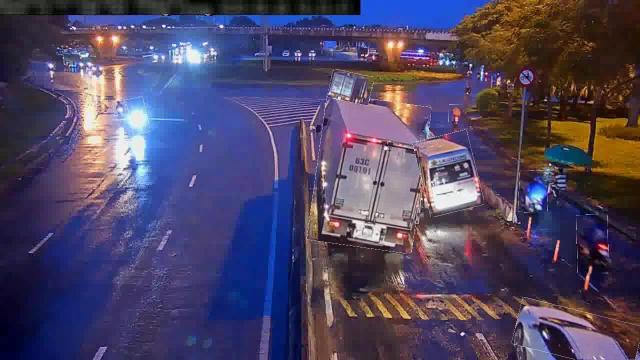Bike: (576, 214, 608, 274), (519, 171, 549, 213), (128, 98, 148, 134), (448, 104, 464, 126), (114, 100, 126, 116)
Bus: (418, 132, 480, 216)
Car: (513, 305, 639, 360)
Truck: (312, 96, 426, 252), (329, 72, 373, 104)
